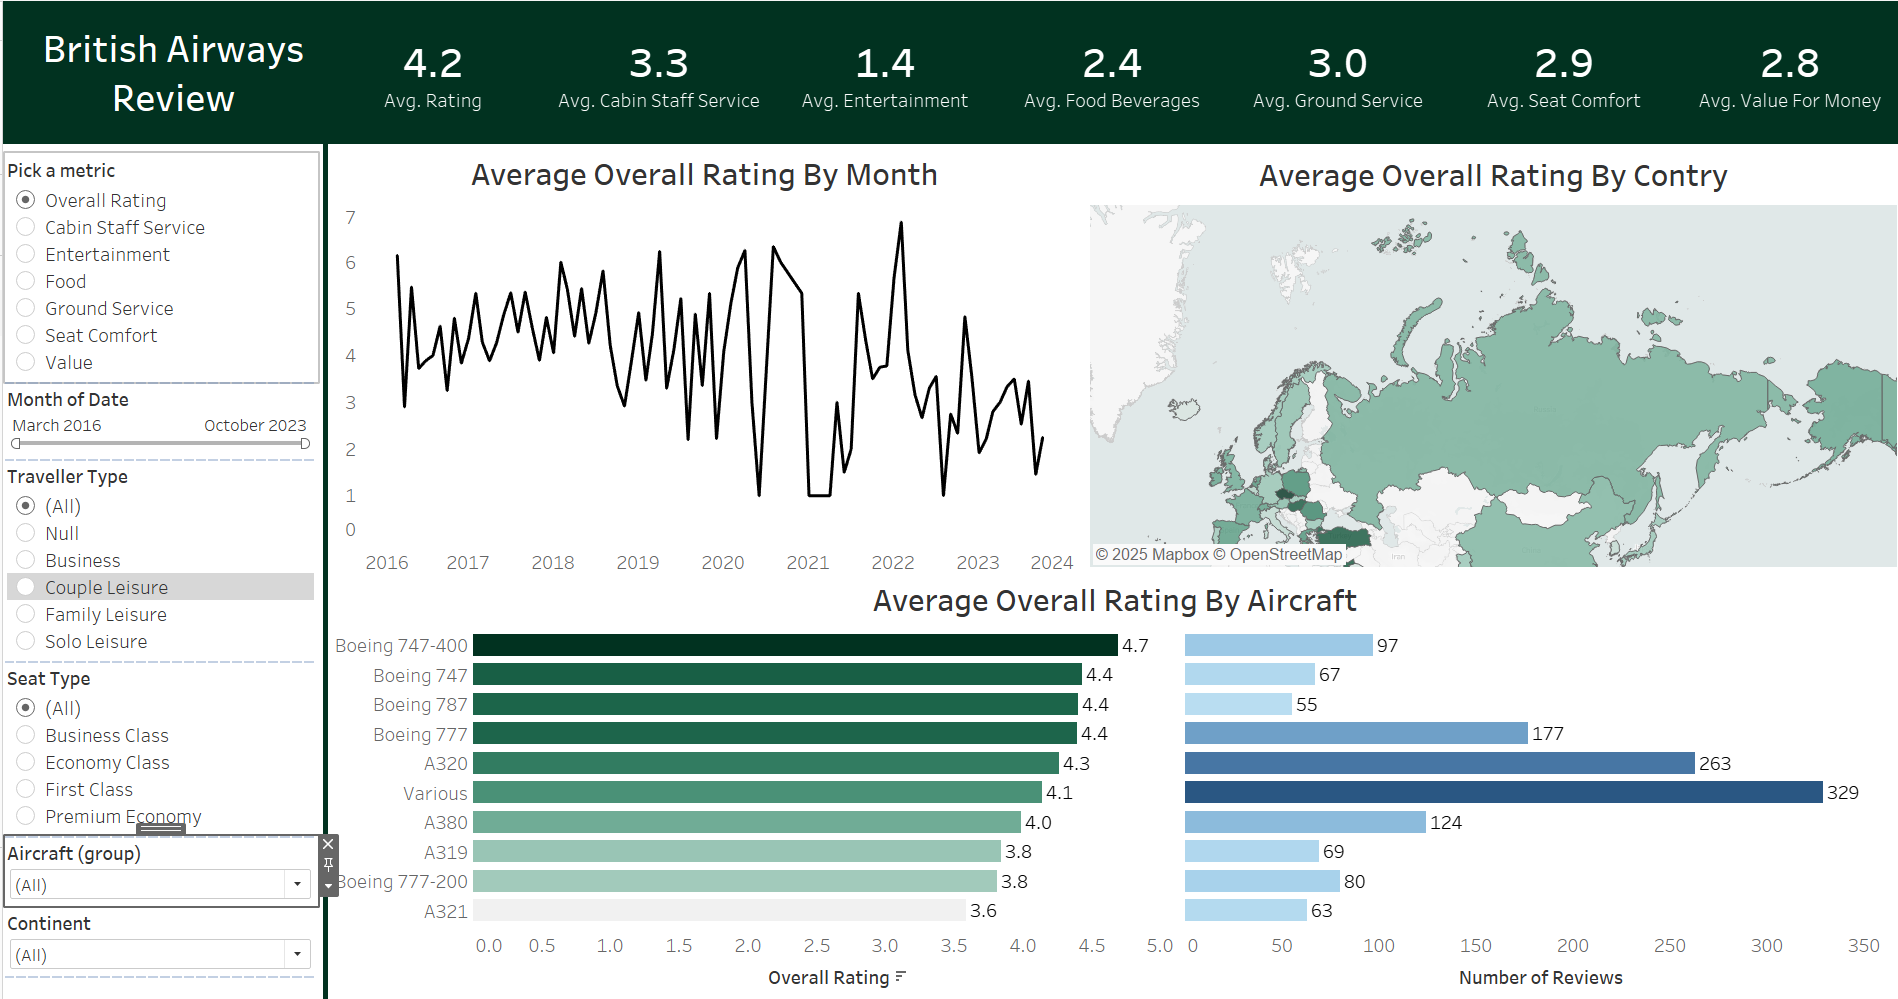

The dashboard page shown, as its layout file describes it:
{"tool":"tableau","page":{"name":"Dashboard 1","canvas":[1000,1000],"units":"permille","ordinal":0},"visuals":[{"type":"text","box":[0,0,179.5,143]},{"type":"worksheet","title":"Summary","mark":"Automatic","box":[166.7,0,833.3,142.9]},{"type":"blank","box":[168.4,140,2.6,860]},{"type":"worksheet","title":"Month","mark":"Automatic","rows":["Calculation_1566408307048001536"],"cols":["date"],"box":[173.7,147,391.1,426]},{"type":"worksheet","title":"Map","mark":"Automatic","box":[572.1,148,424.7,418]},{"type":"parameter","param":"[Parameters].[Parameter 1]","box":[0,152,165.8,229]},{"type":"filter","title":"Map","param":"[federated.1vrfbwd0qhi6pd13nchty0qeeek4].[tmn:date:qk]","box":[0,381,165.8,77]},{"type":"filter","title":"Map","param":"[federated.1vrfbwd0qhi6pd13nchty0qeeek4].[none:traveller_type:nk]","box":[0,458,165.8,202]},{"type":"worksheet","title":"Aircraft","mark":"Automatic","cols":["Calculation_1566408307048001536","ba_reviews.csv_006F5EE482014C0A9C75151625D580EE"],"box":[173.7,573,823.2,422]},{"type":"filter","title":"Map","param":"[federated.1vrfbwd0qhi6pd13nchty0qeeek4].[none:seat_type:nk]","box":[0,660,165.8,175]},{"type":"filter","title":"Map","param":"[federated.1vrfbwd0qhi6pd13nchty0qeeek4].[Aircraft (group)]","box":[0,835,165.8,70]},{"type":"filter","title":"Map","param":"[federated.1vrfbwd0qhi6pd13nchty0qeeek4].[none:Continent:nk]","box":[0,905,165.8,70]}]}

Visuals, with their boxes on the dashboard's canvas, which has no fixed pixel size, in thousandths of its width and height (x1, y1, x2, y2). These are canvas units, not pixel positions in the 1898x999 screenshot, which may show the page scaled, cropped or inside an application window:
text: 0,0,180,143
"Summary" worksheet: 167,0,1000,143
blank: 168,140,171,1000
"Month" worksheet: 174,147,565,573
"Map" worksheet: 572,148,997,566
parameter: 0,152,166,381
"Map" filter: 0,381,166,458
"Map" filter: 0,458,166,660
"Aircraft" worksheet: 174,573,997,995
"Map" filter: 0,660,166,835
"Map" filter: 0,835,166,905
"Map" filter: 0,905,166,975
